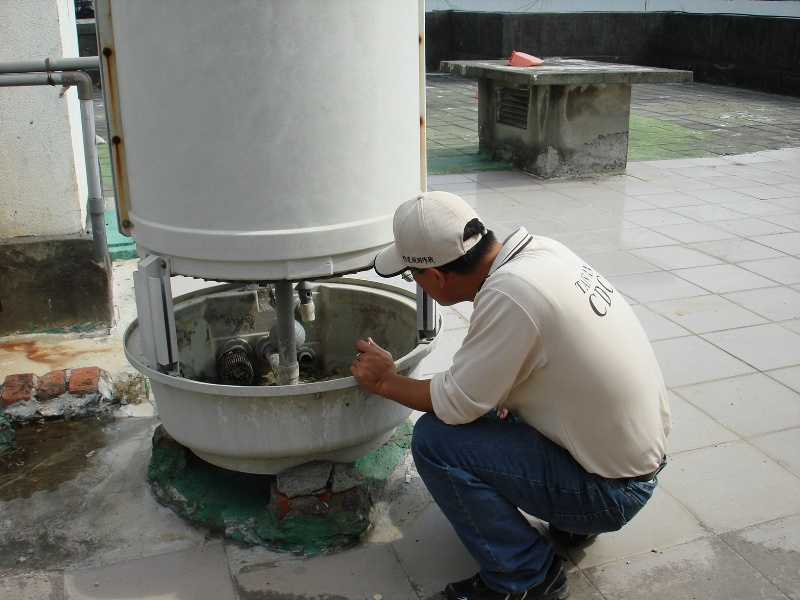water_tower: (94, 2, 446, 478)
